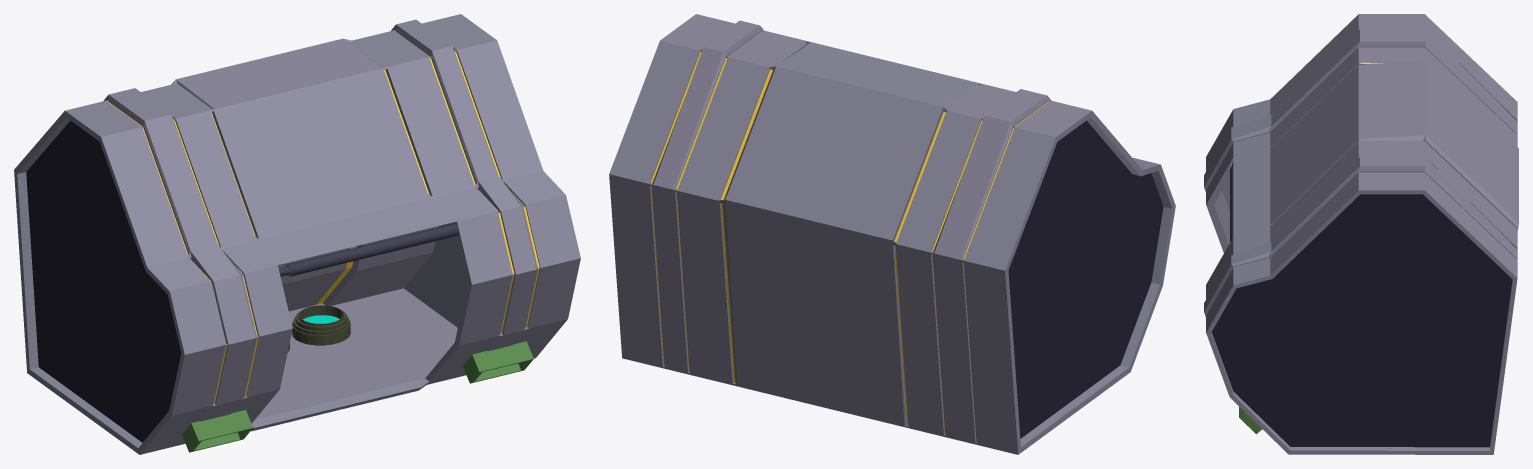
The model's file is SM_bus_stop_colored.fbx.
The picture shows the model from 3 angles, left to right: view 1: azimuth 30°, elevation 25°; view 2: azimuth 150°, elevation 25°; view 3: azimuth 270°, elevation 25°; orthographic projection. The views are drawn at different scales.
Visible parts, largest first — view 1: 1BUSSTOP JOINED; view 2: 1BUSSTOP JOINED; view 3: 1BUSSTOP JOINED.
Part boxes in pixels (x1=…): 1BUSSTOP JOINED: x1=14, y1=14, x2=580, y2=454; 1BUSSTOP JOINED: x1=609, y1=14, x2=1175, y2=454; 1BUSSTOP JOINED: x1=1204, y1=14, x2=1518, y2=454.
Bounding box in the file's own units: 518 × 371 × 389.
